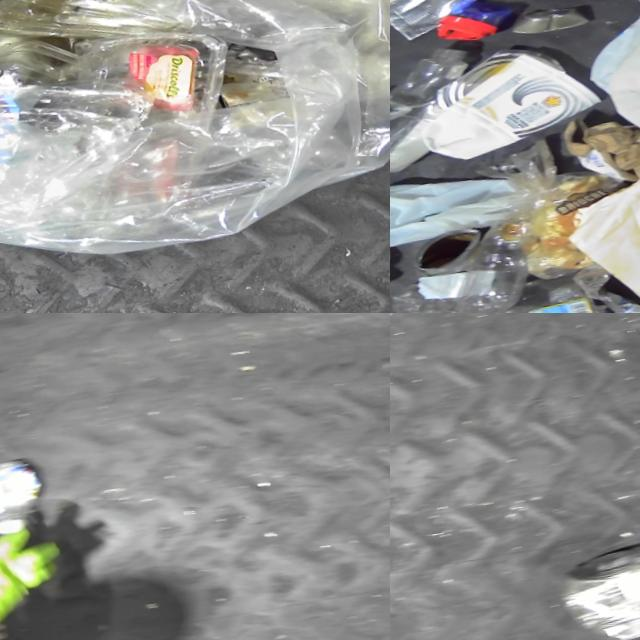can: (433, 39, 572, 110), (559, 535, 640, 640), (390, 0, 488, 46), (411, 225, 492, 280), (513, 2, 593, 37)
milk_jug: (390, 164, 525, 254), (580, 0, 640, 96)
plastic_bottle: (390, 42, 485, 184), (454, 217, 548, 313), (573, 253, 640, 313)
